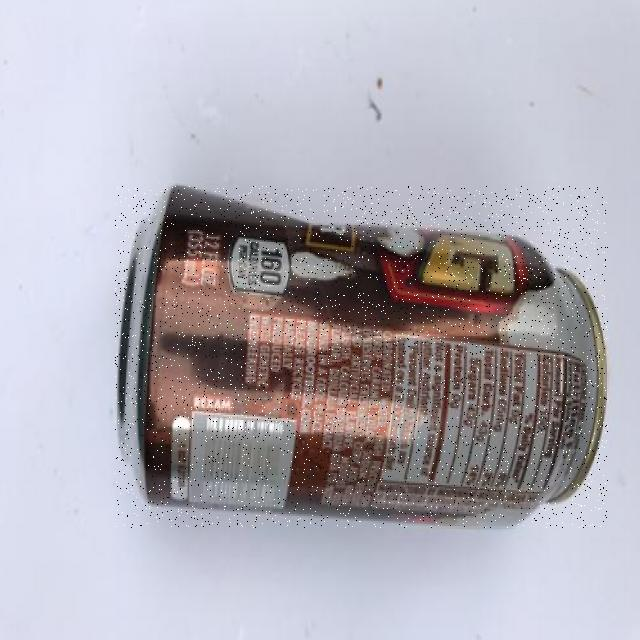metal: (116, 186, 608, 528)
